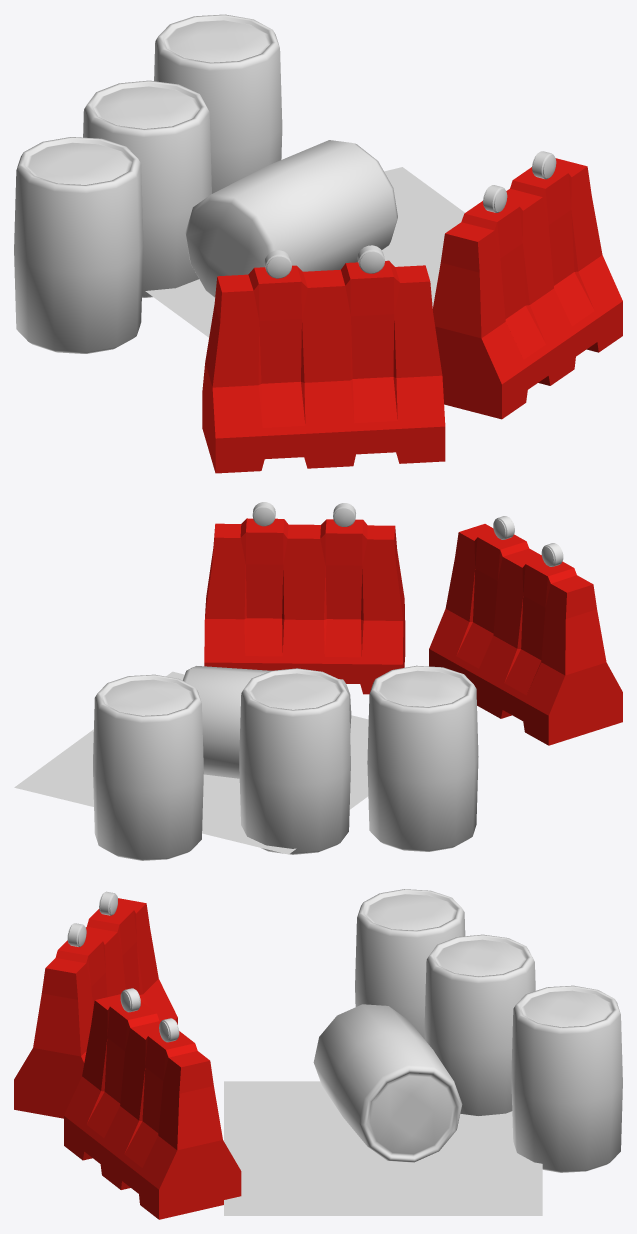
The model's file is obstacle-4-b.fbx.
The picture shows the model from 3 angles, top to bottom: view 1: azimuth 30°, elevation 25°; view 2: azimuth 150°, elevation 25°; view 3: azimuth 270°, elevation 25°; orthographic projection. The views are drawn at different scales.
Visible parts, largest first — view 1: water-wall, water-wall.001, barel-1, barel-1.003, barel-1.001, barel-1.002, puddle, Cube.001, Cube.018; view 2: water-wall.001, water-wall, barel-1.002, barel-1, barel-1.001, puddle, barel-1.003; view 3: puddle, water-wall.001, barel-1.002, barel-1.003, water-wall, barel-1.001, barel-1.
Boxes of the visible parts, x1,y1,x2,y2 form: water-wall: (202, 260, 445, 473); water-wall.001: (432, 158, 622, 419); barel-1: (14, 137, 143, 353); barel-1.003: (185, 140, 397, 297); barel-1.001: (83, 80, 211, 297); barel-1.002: (154, 14, 282, 193); puddle: (145, 167, 464, 337); Cube.001: (357, 245, 384, 273); Cube.018: (264, 250, 291, 278); water-wall.001: (204, 518, 405, 694); water-wall: (429, 524, 622, 745); barel-1.002: (93, 674, 203, 860); barel-1: (367, 665, 478, 851); barel-1.001: (239, 668, 350, 854); puddle: (14, 671, 368, 854); barel-1.003: (183, 666, 351, 778); puddle: (224, 1081, 542, 1215); water-wall.001: (64, 994, 241, 1219); barel-1.002: (511, 985, 622, 1172); barel-1.003: (313, 1004, 462, 1162); water-wall: (14, 898, 177, 1118); barel-1.001: (424, 934, 535, 1115); barel-1: (355, 889, 465, 1039).
Size of the model in its own units: 42.93 by 17.96 by 57.54.
